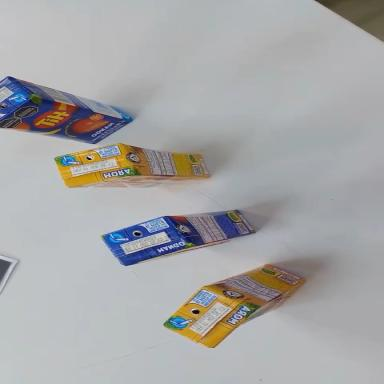HIT-MANGO: (0, 74, 135, 163), (101, 196, 255, 270)
HIT-MORA: (158, 238, 309, 364), (54, 137, 211, 192)
cara_F: (0, 91, 132, 157)
